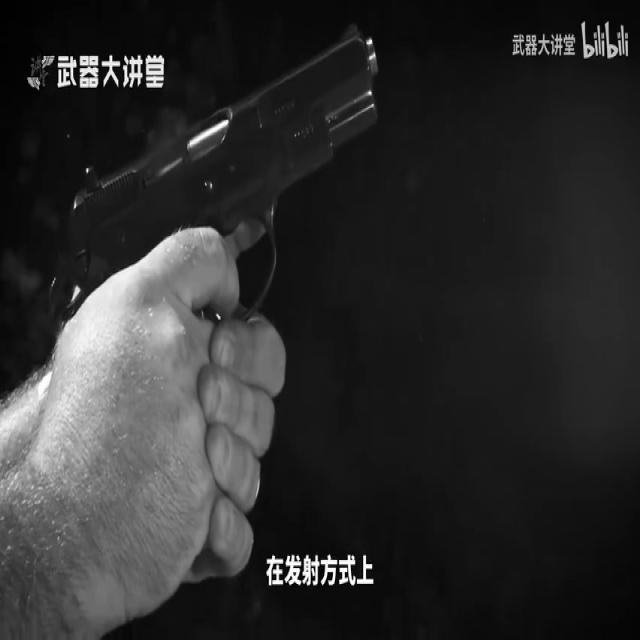Hand-Gun: (31, 15, 388, 361)
